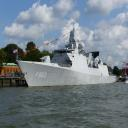Fragata: (16, 19, 118, 90)
